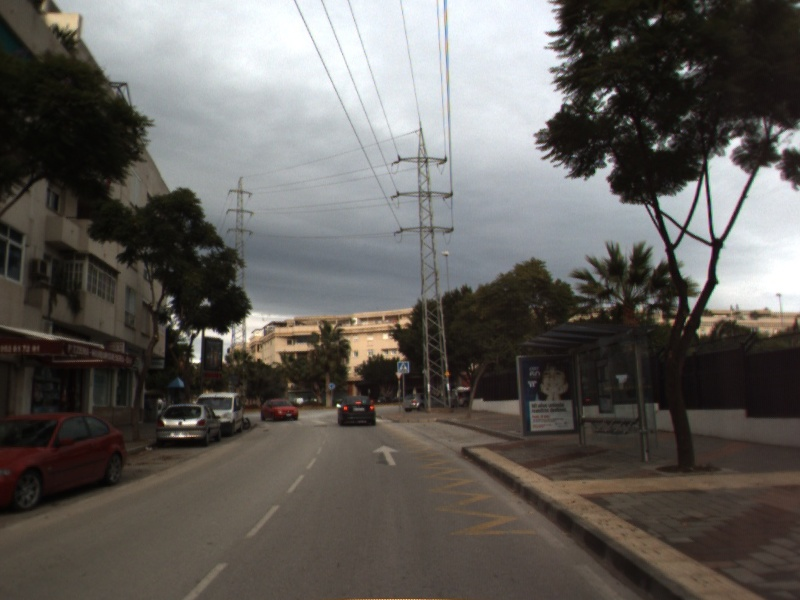STRAIGHT: (370, 443, 403, 467)
